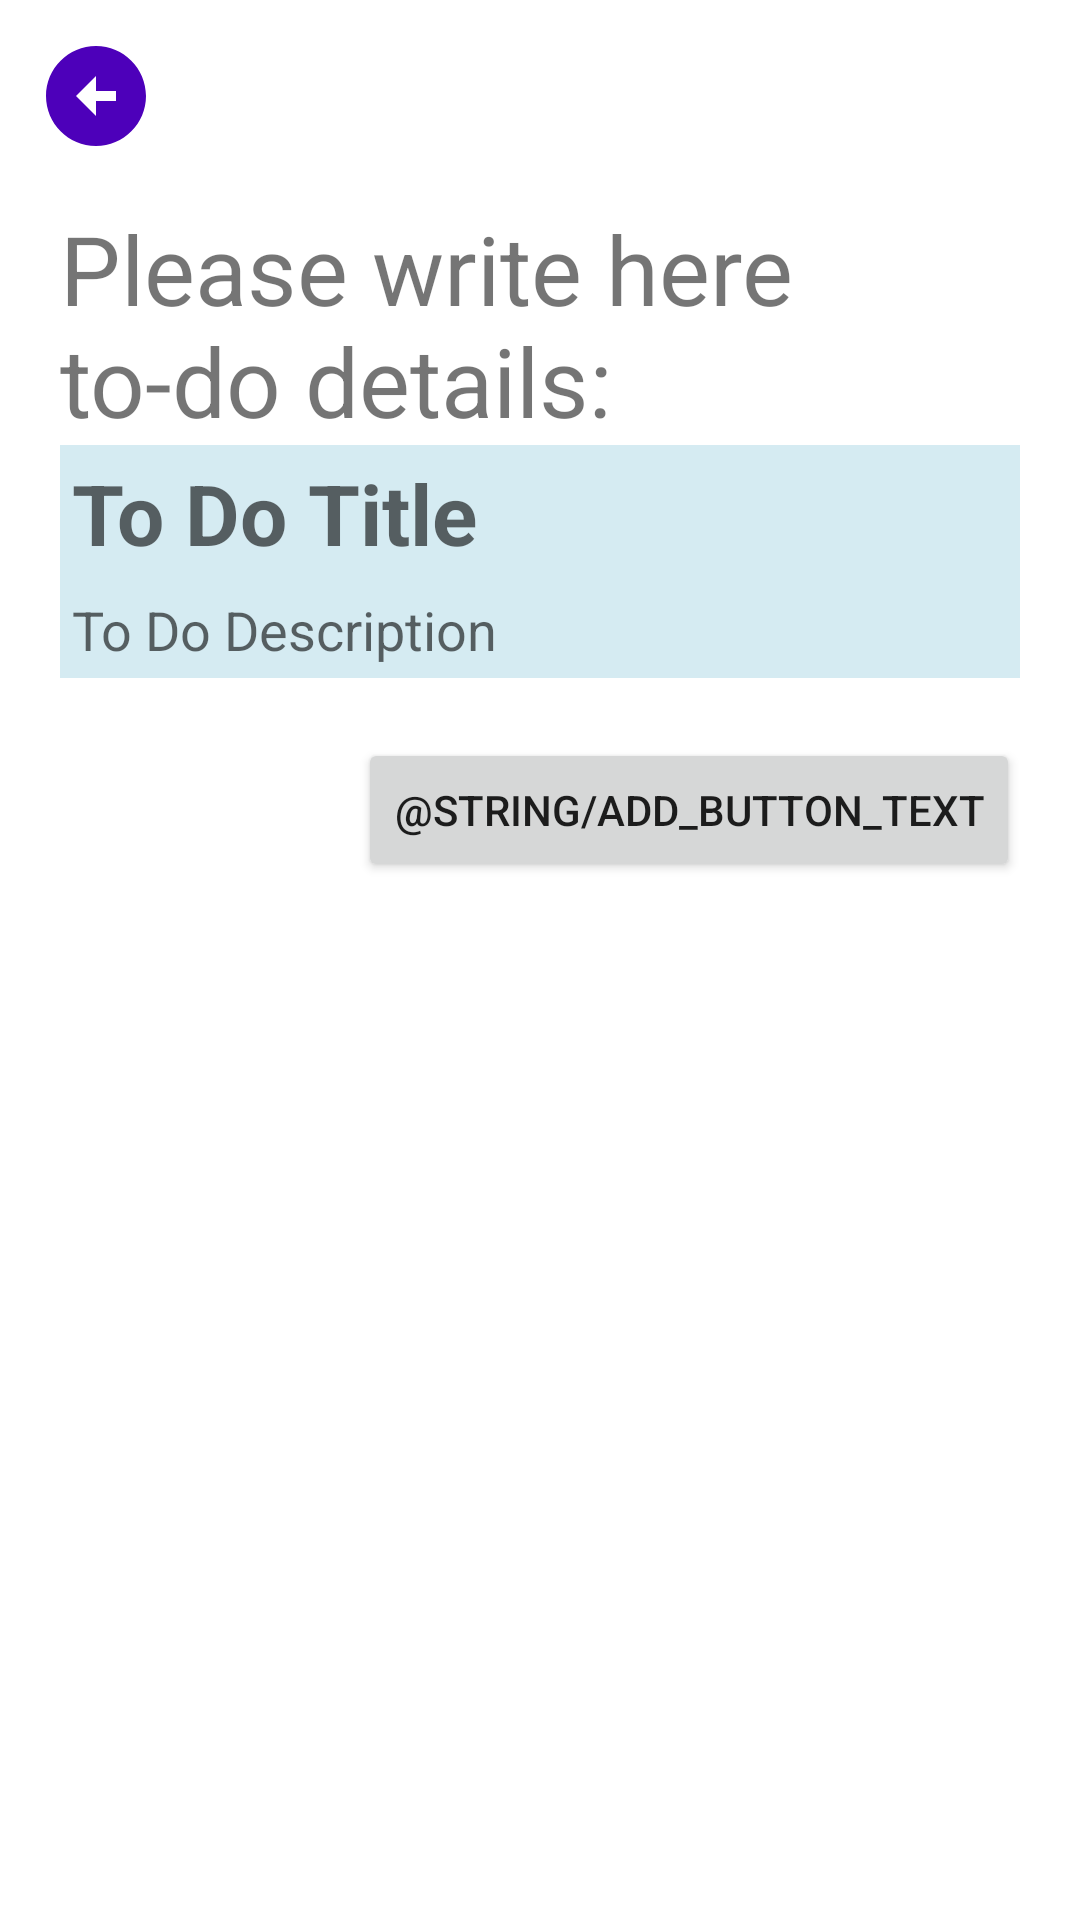

Icons on this 1080 x 1920 Android screen, each with the point to tap as point (x, y):
arrow circle left: point (96, 96)
